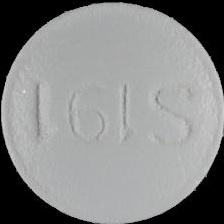52959-919: (0, 0, 224, 224)
